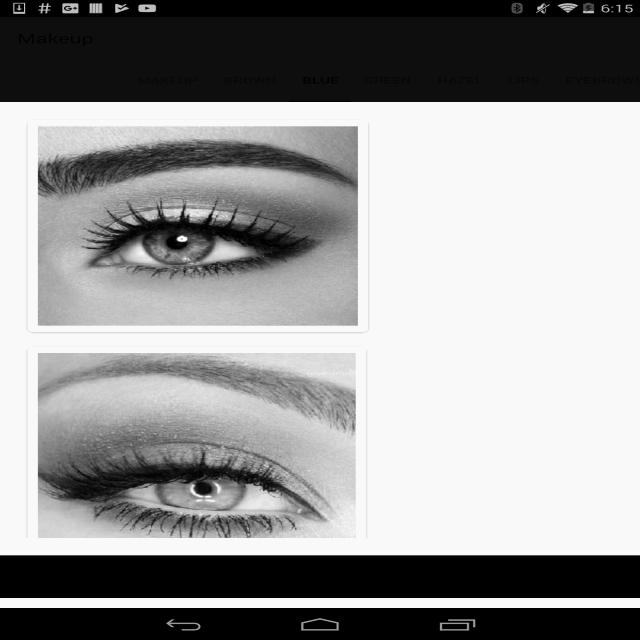ImageView: (38, 126, 358, 326), (38, 353, 356, 551)
TextView: (124, 59, 211, 101), (552, 59, 640, 100), (211, 59, 289, 101), (351, 59, 424, 101), (424, 59, 495, 101), (289, 59, 351, 101), (496, 59, 552, 101), (17, 29, 94, 47)
